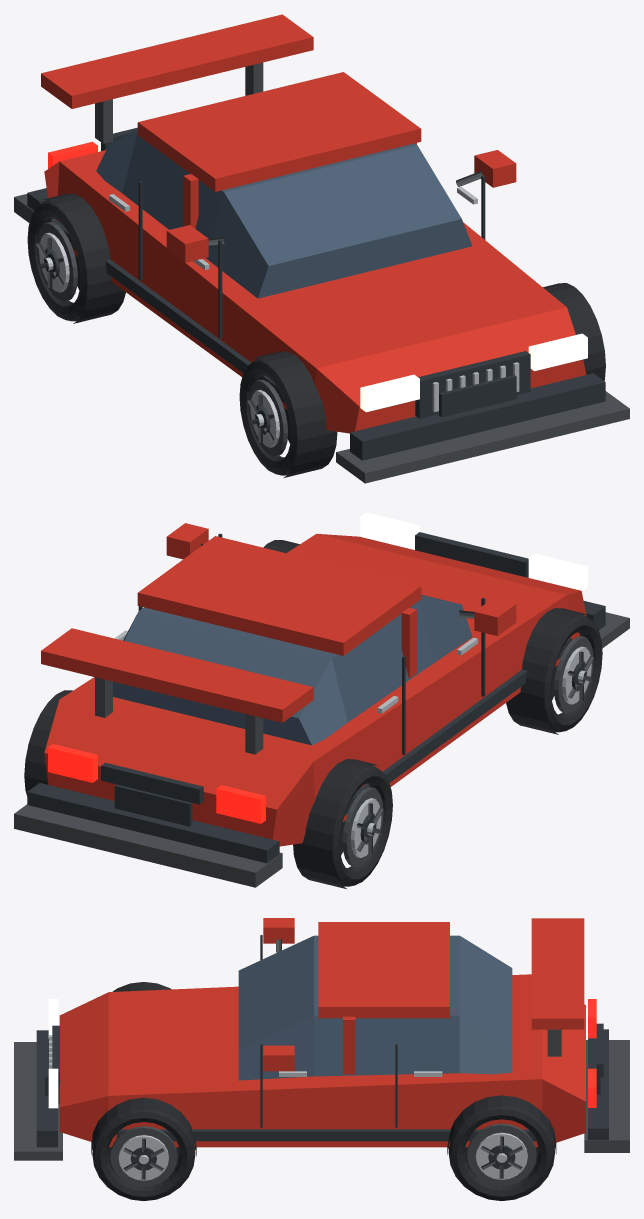
The model's file is car-sports.glb.
3 views of the same model, one above another, from view 1: azimuth 30°, elevation 25°; view 2: azimuth 150°, elevation 25°; view 3: azimuth 270°, elevation 25° (orthographic). The views are drawn at different scales.
Parts seen in each view (by area): view 1: body-detail, wheel-front-left, wheel-back-left, wheel-front-right; view 2: body-detail, wheel-back-left, wheel-front-left, wheel-back-right; view 3: body-detail, wheel-back-right, wheel-front-right.
Part boxes in pixels (x1,y1,x2,y2): body-detail: (14, 14, 629, 483); wheel-front-left: (239, 351, 337, 477); wheel-back-left: (27, 193, 125, 323); wheel-front-right: (543, 283, 605, 380); body-detail: (14, 512, 629, 887); wheel-back-left: (293, 759, 392, 889); wheel-front-left: (506, 608, 602, 734); wheel-back-right: (24, 690, 72, 796); body-detail: (14, 918, 629, 1160); wheel-back-right: (447, 1095, 556, 1200); wheel-front-right: (91, 1097, 196, 1200).
Bounding box in the file's own units: 1.85 × 1.11 × 3.51.
